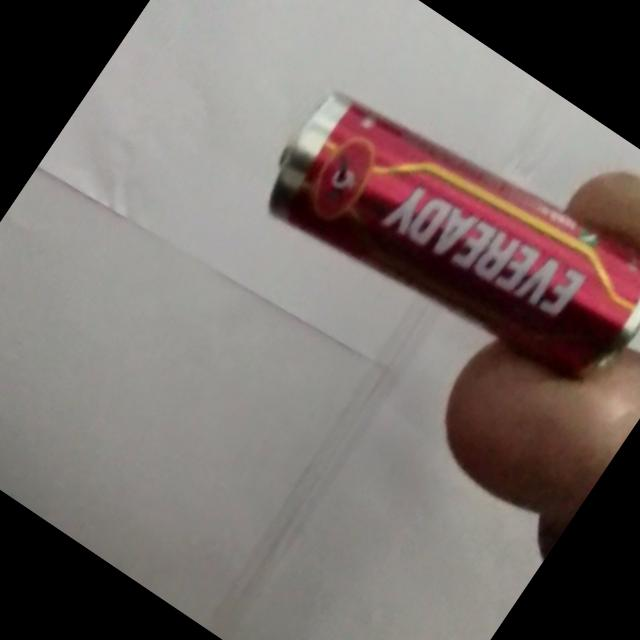battery: (270, 94, 640, 376)
